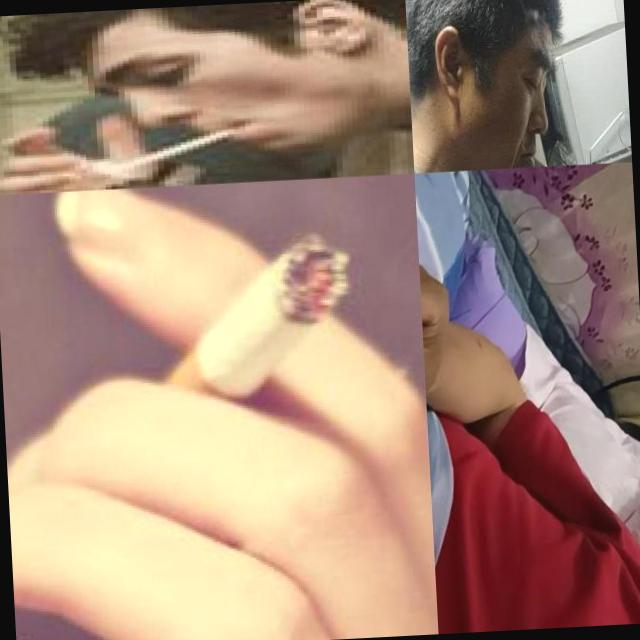cigarette: (130, 223, 358, 414), (97, 120, 266, 175), (531, 153, 570, 167)
